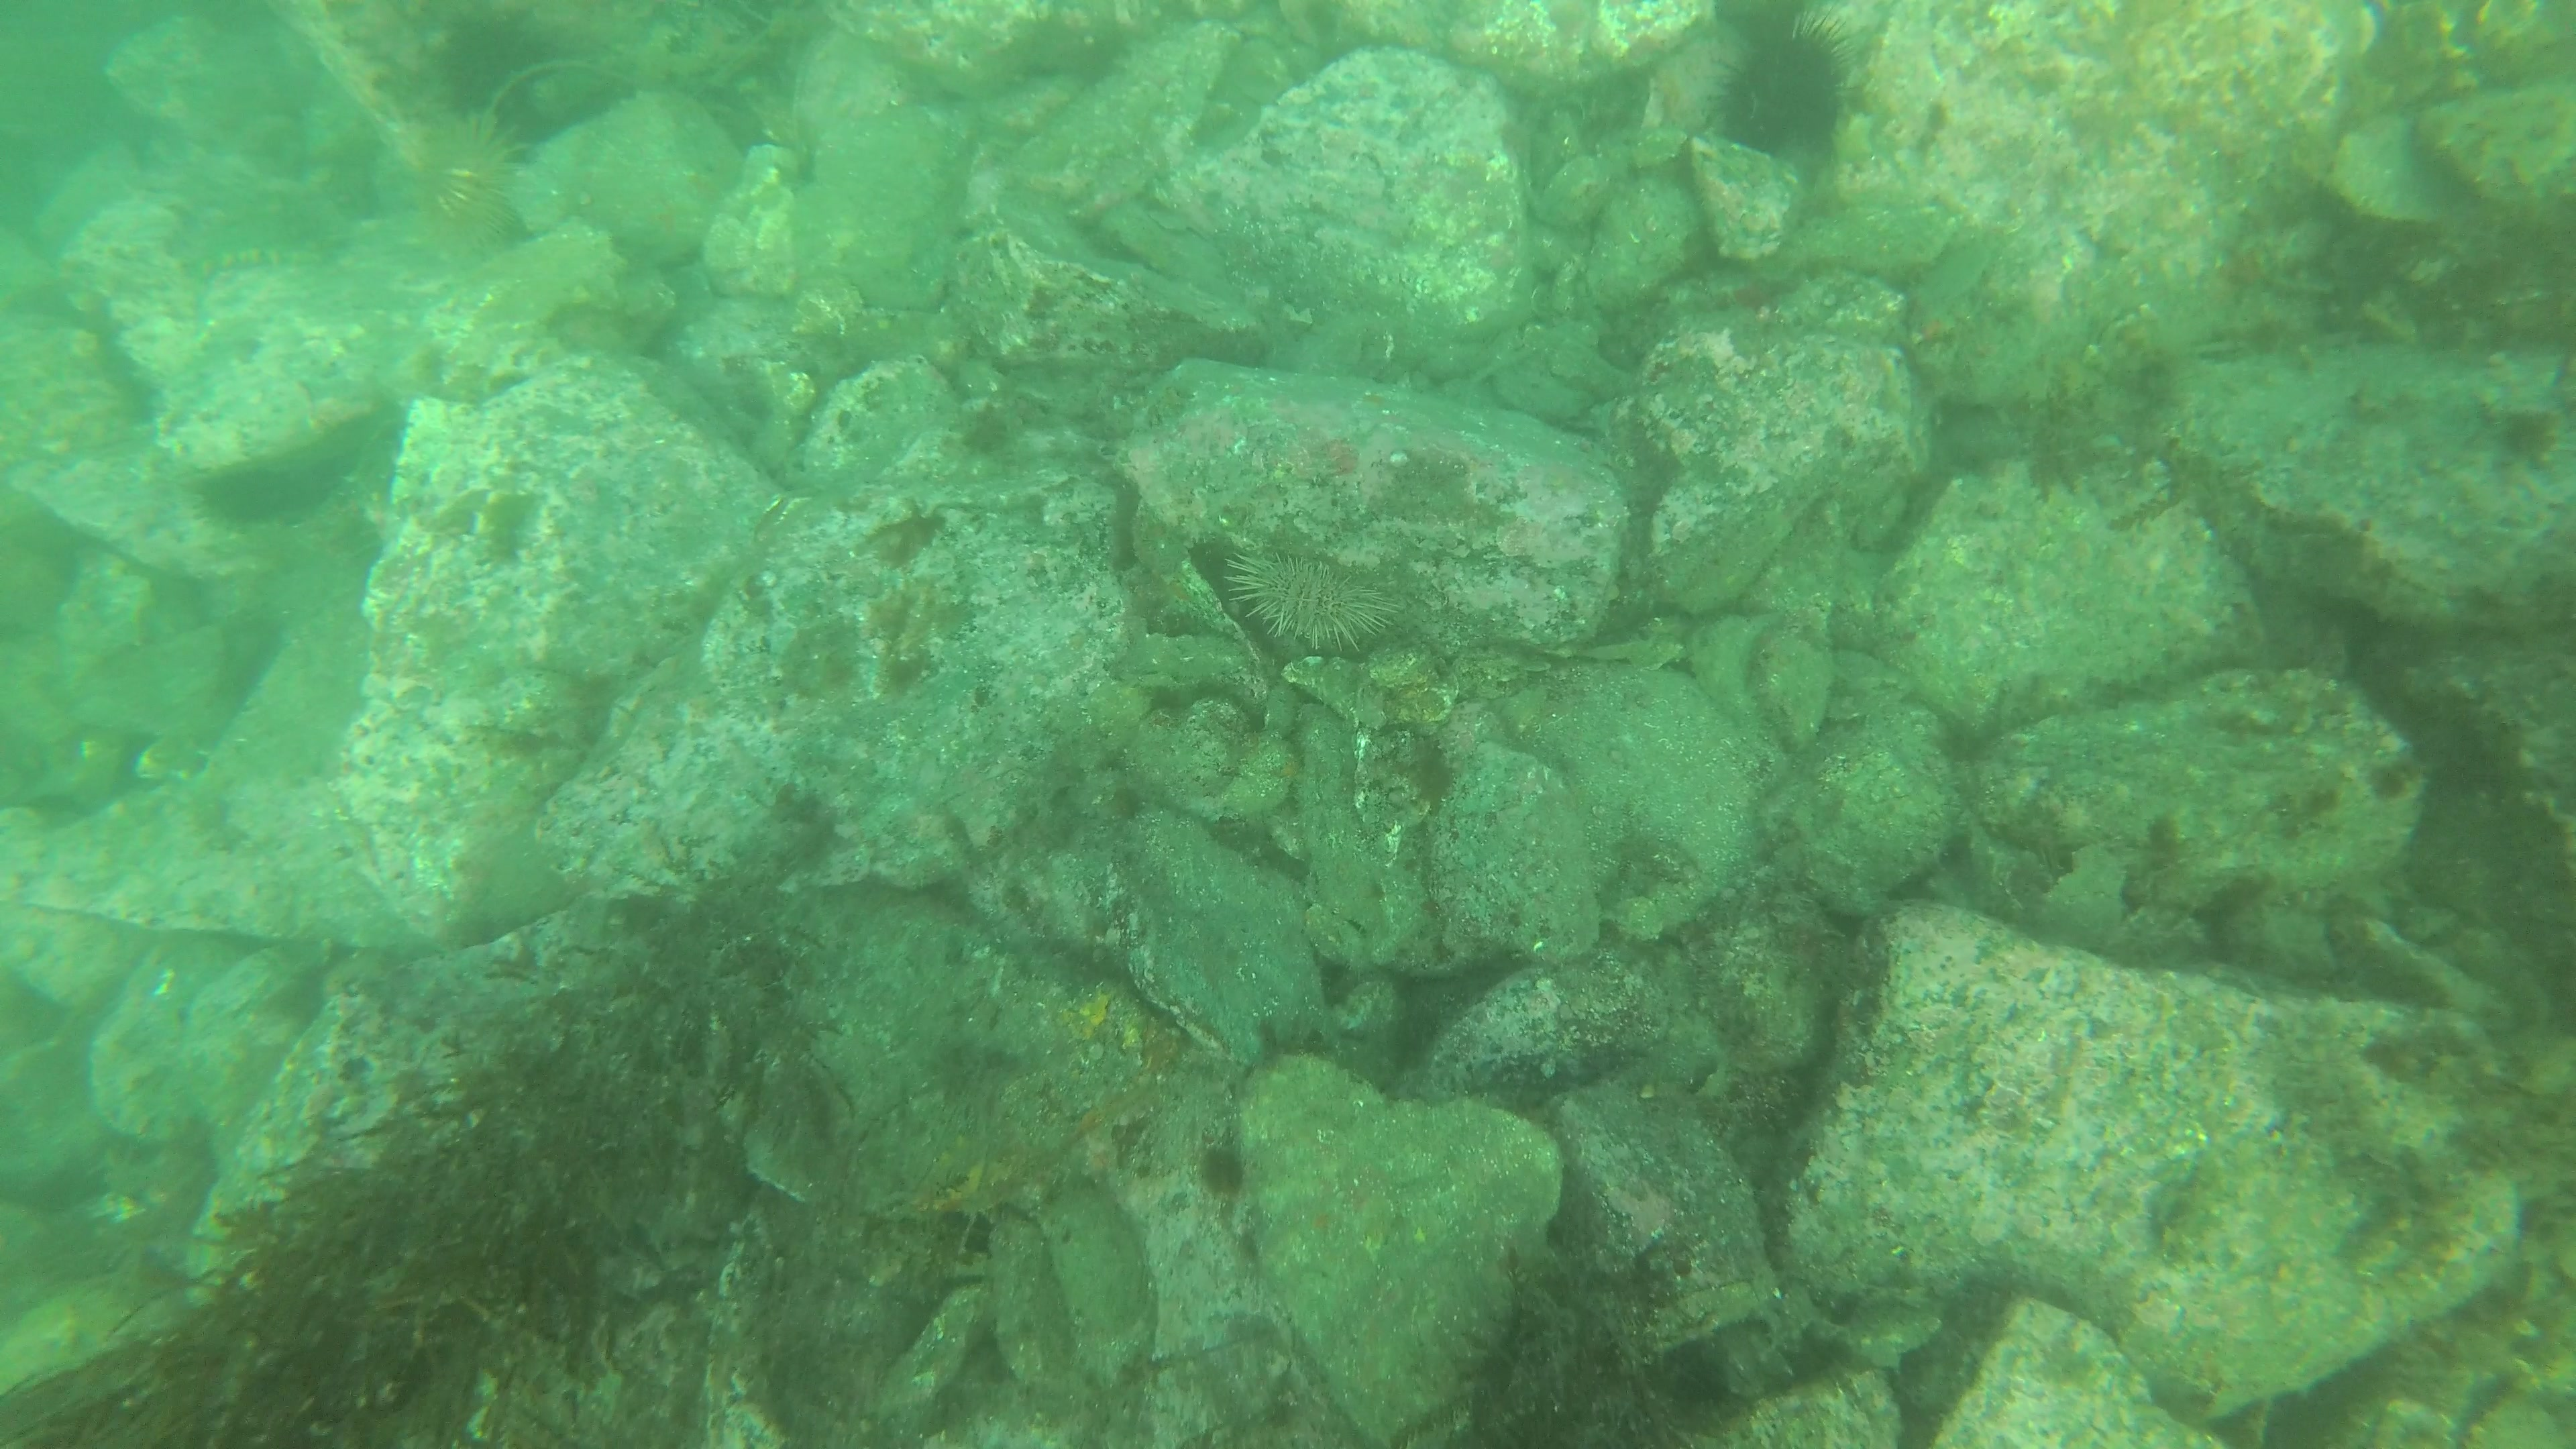echinus: (1215, 538, 1405, 663), (395, 119, 531, 253)
starfish: (1904, 306, 1973, 380)
